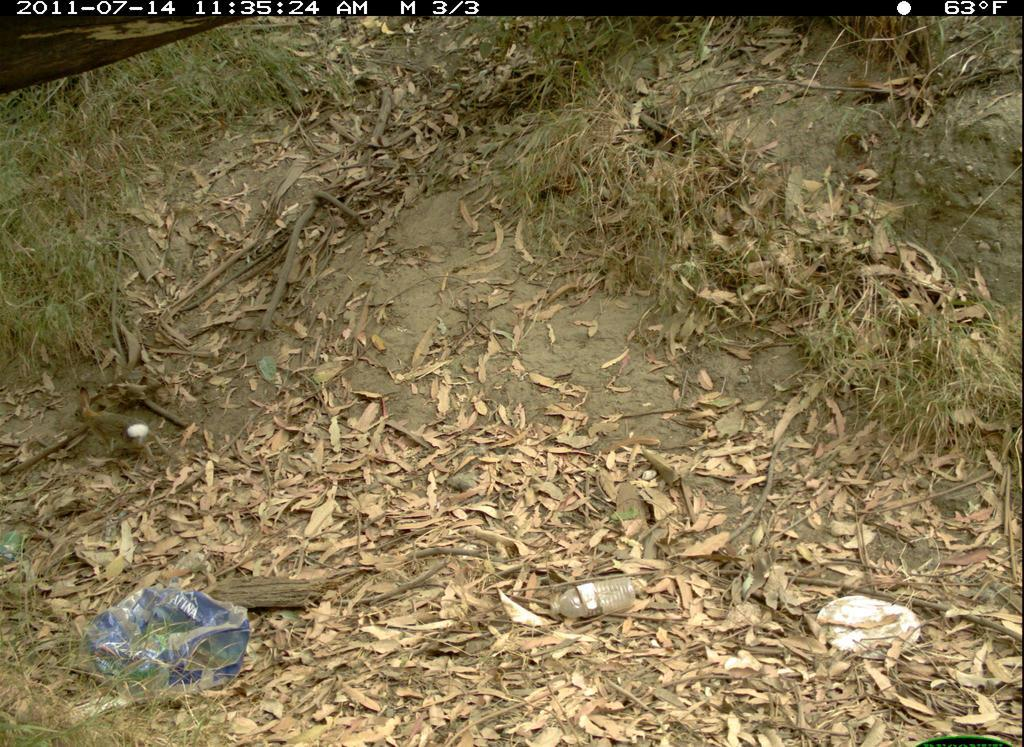rabbit: (70, 388, 177, 487)
